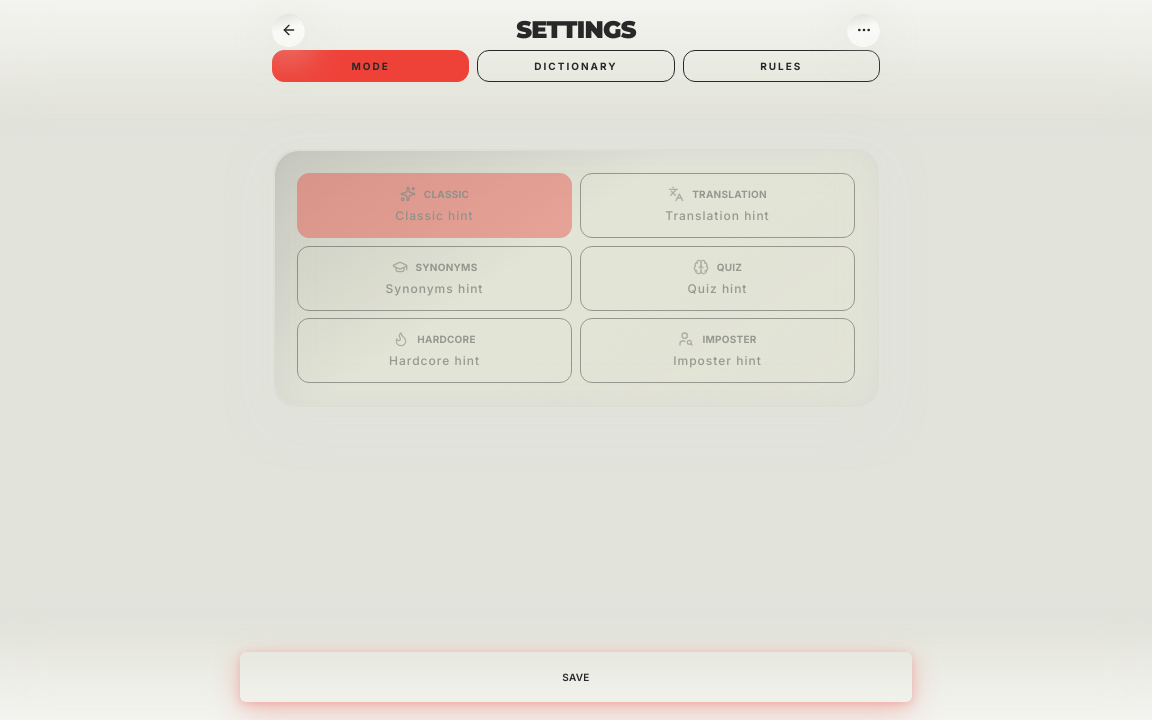
Test: SettingsScreen › should keep category controls read-only for guest on content tab
Click the tab "Dictionary": (576, 66) 477,50 -> 675,82
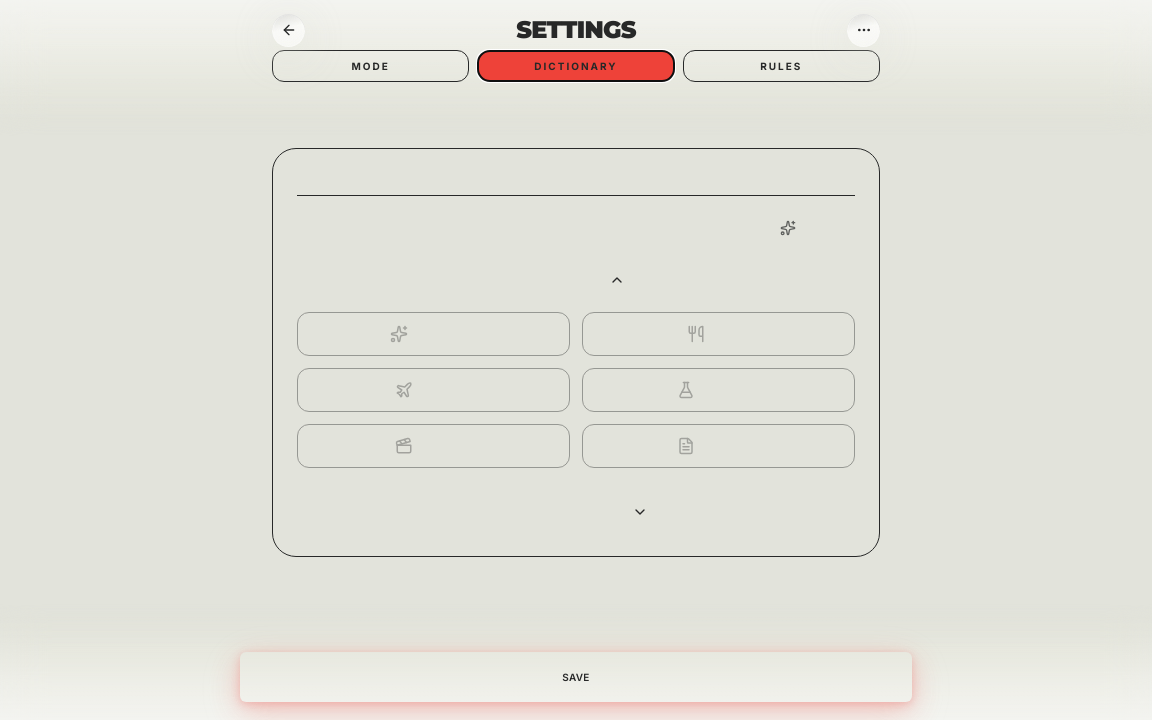
Expected: the button "General" is disabled, 297,312 -> 570,356
Expected: the button "General" is shown, 297,312 -> 570,356
